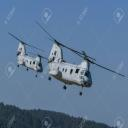helicopter: (36, 22, 126, 98), (8, 34, 49, 78)
